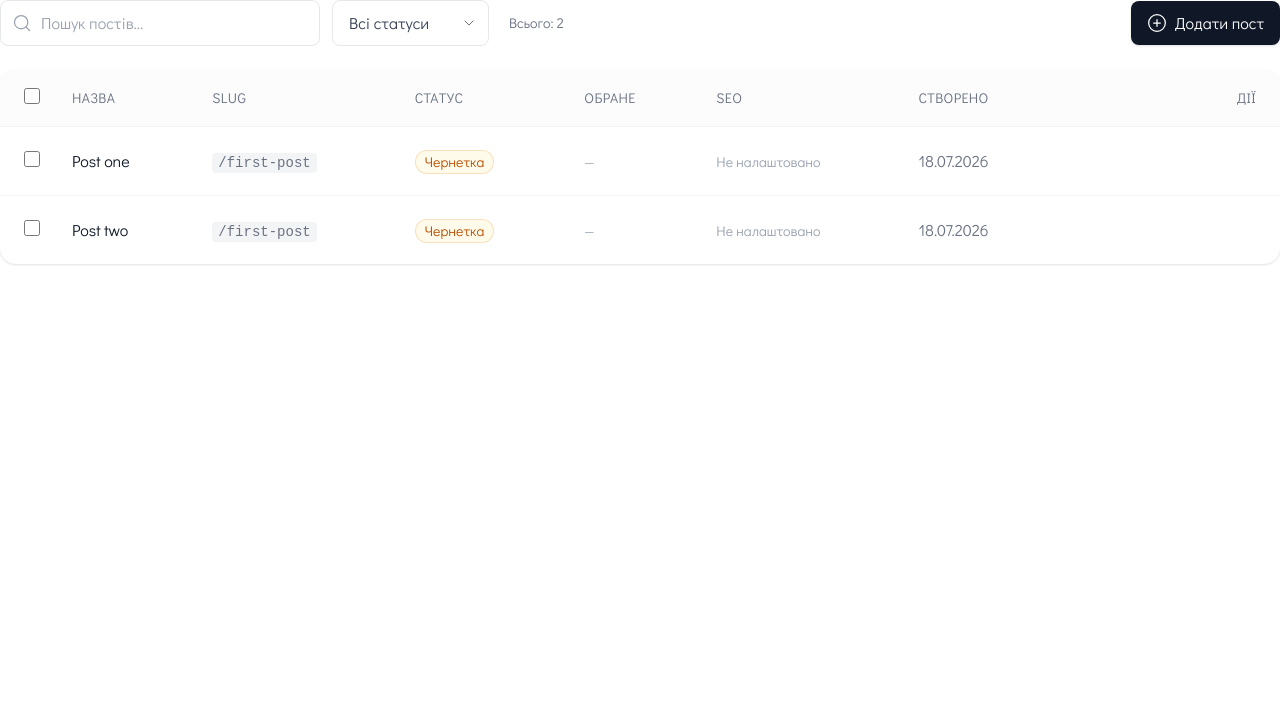
Test: PostsPage › bulk-deletes selected posts
Expected: the link "Post one" is shown, top-left (72, 150), bottom-right (130, 171)
Step 1. Click the checkbox named "Вибрати всі рядки" → coordinates (32, 96), box top-left (24, 88), bottom-right (40, 104)
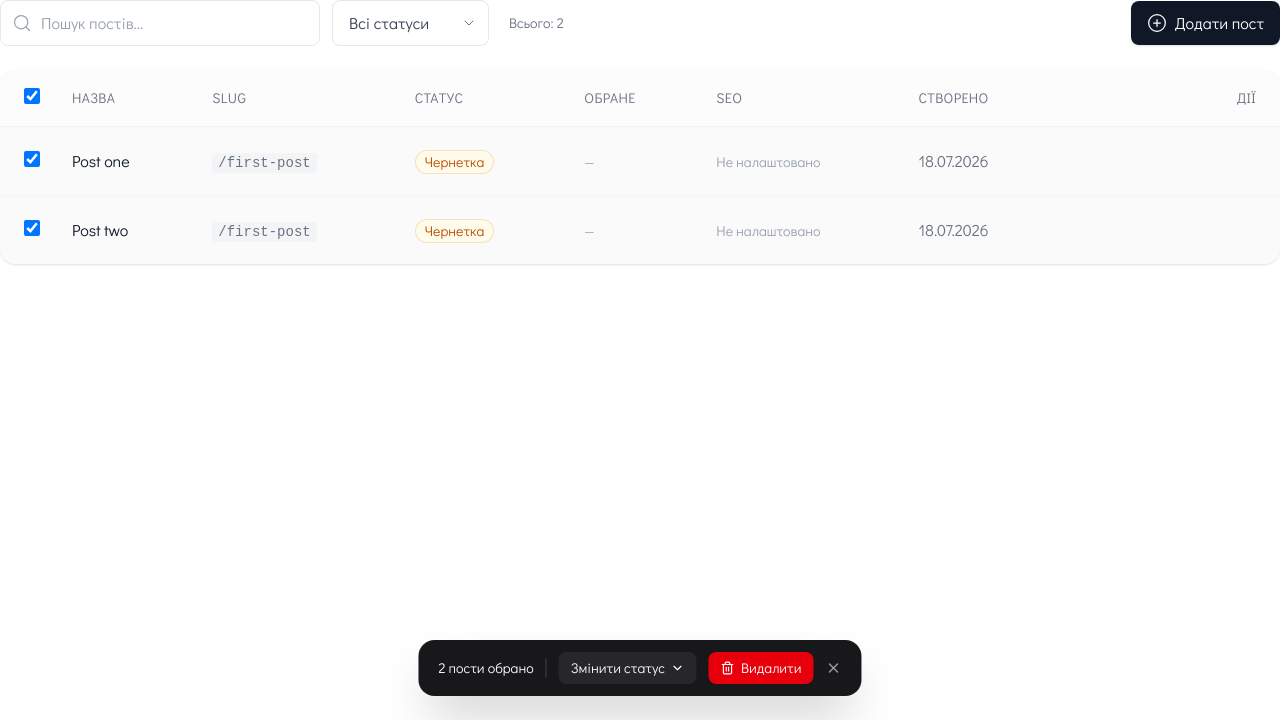
Result: the text "2 пости обрано" is shown at top-left (438, 658), bottom-right (534, 678)
Step 2. Click the button "Видалити" → coordinates (761, 668), box top-left (709, 652), bottom-right (814, 684)
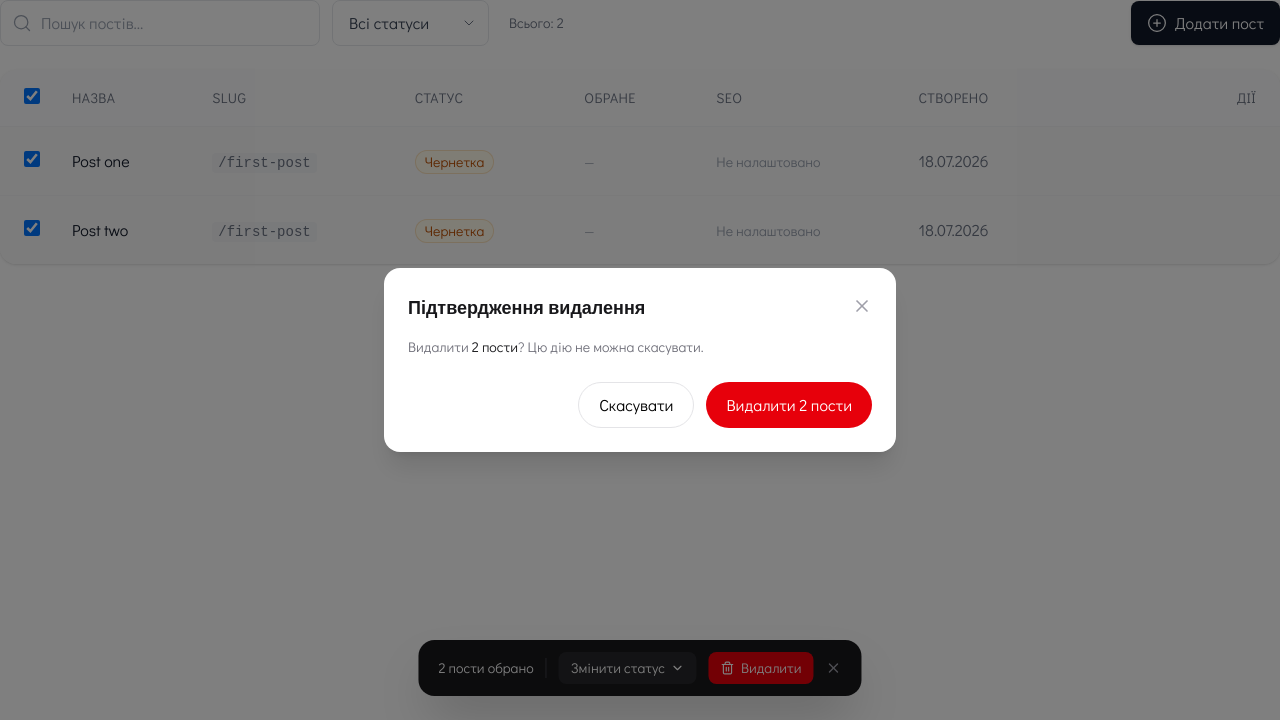
Step 3. Click the button "Видалити 2 пости" → coordinates (789, 405), box top-left (706, 382), bottom-right (872, 428)
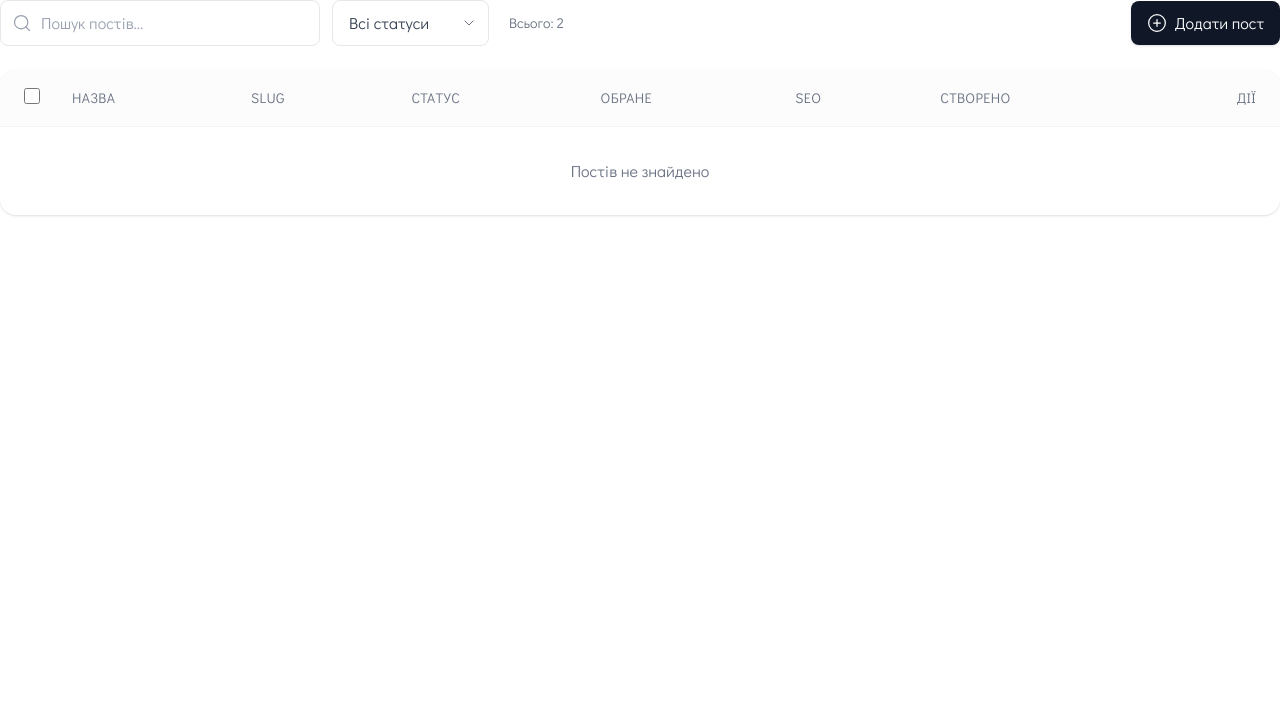
Result: the link "Post one" is gone
